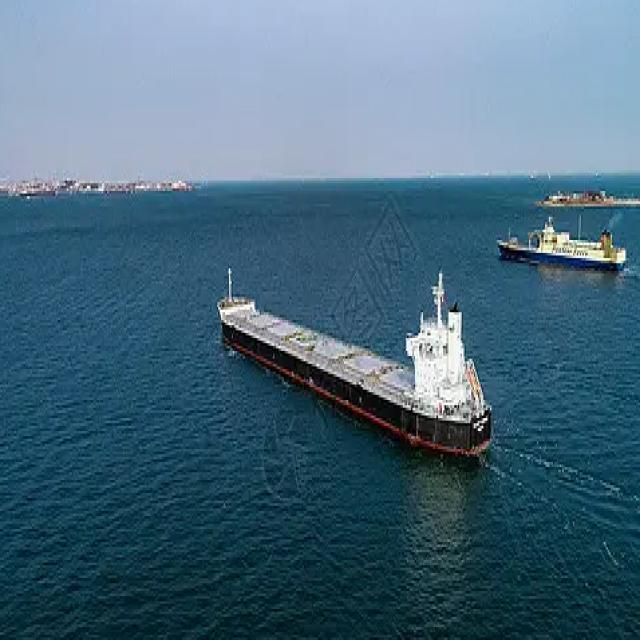cargoship: (213, 241, 493, 468)
fishing boat: (494, 199, 631, 272)
